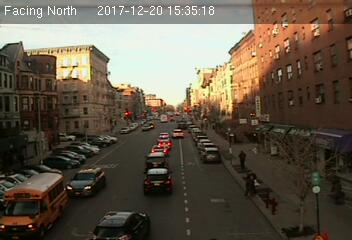car: (86, 209, 153, 240), (66, 169, 105, 196), (142, 168, 173, 194), (144, 151, 169, 172), (200, 146, 222, 163), (172, 129, 184, 138)
pedestrian: (244, 169, 258, 196), (237, 149, 247, 171)
truck: (1, 171, 67, 235)
